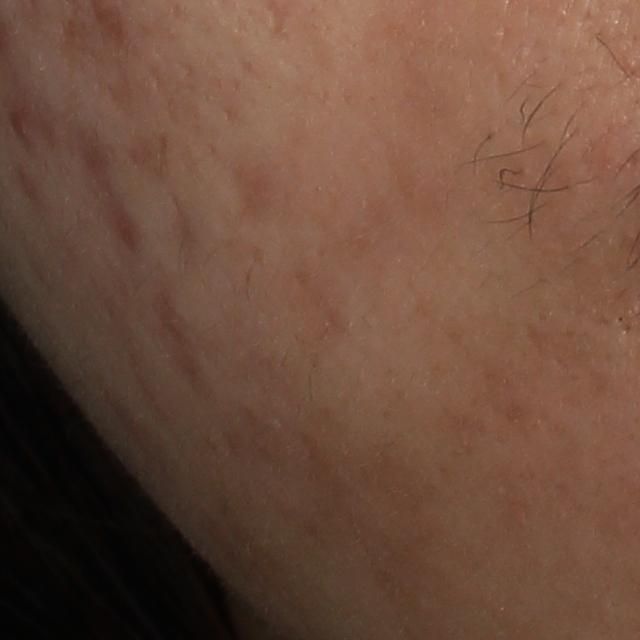atrophic_scar: (68, 132, 146, 257)
papule: (11, 114, 32, 142)
